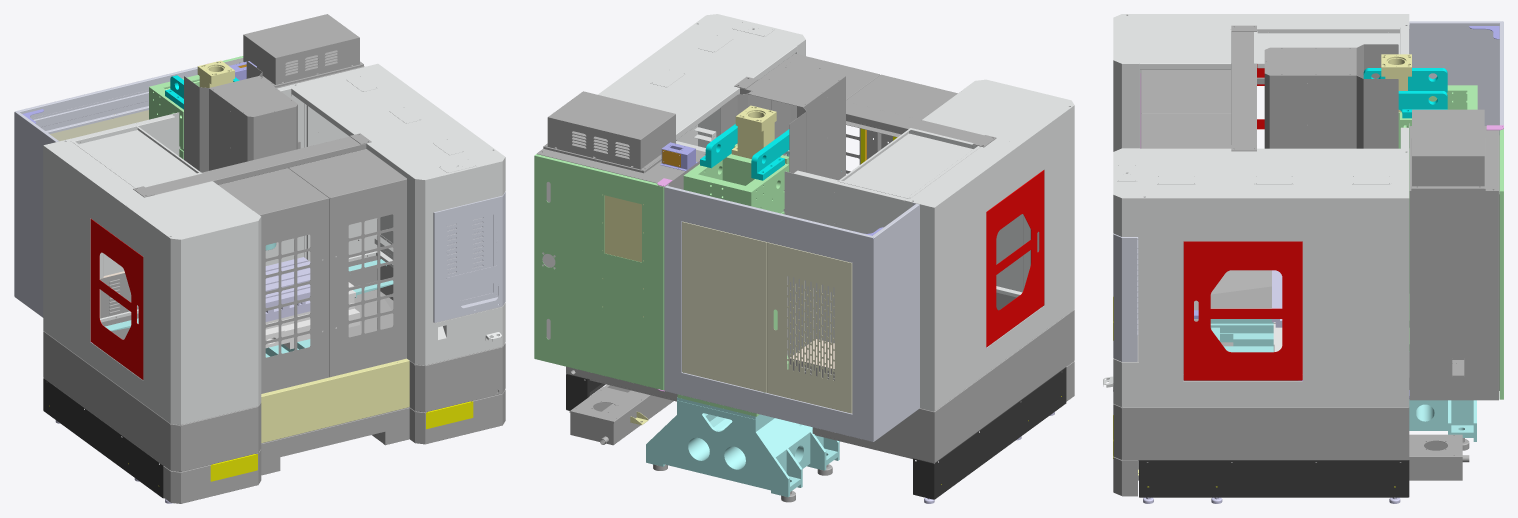
Rendered from 中型cnc装配体.glb.
3 views of the same model, side by side, from view 1: azimuth 30°, elevation 25°; view 2: azimuth 150°, elevation 25°; view 3: azimuth 270°, elevation 25° (orthographic). The views are drawn at different scales.
Visible parts, largest first — view 1: 850B左前上围板-2.0-1件-1, 右推门-2.0-1件-1, 左推门-2.0-1件-1, 850B右顶件-2.0-1件-1, 850B底盘左大件-2.5-1件-1, 850B右前上围板-2.0-1件-1, 850B左围板后置件-2.0-1件-1, 门框不锈钢装饰板-1.5-1件-1, 后围板右侧件-2.0-1件-1, 操作箱主体-1件-2.0-1, 850B底盘右大件-2.5-1件-1, 两侧门-2.0-2件-1 (+31 smaller); view 2: SH电箱门-1件-2.0-1, 后围板右侧件-2.0-1件-1, 后围板左手门-1件-1.5-1, 后围板右手门-1件-1.5-1, 光机底座-1, 850B右顶件-2.0-1件-1, 850B左围板后置件-2.0-1件-1, 850B左前上围板-2.0-1件-1, 850B左后围板大件-2.0-1件-1, 850B底盘左大件-2.5-1件-1, 两侧门-2.0-2件-1, 左下围板-1.5-1件-1 (+30 smaller); view 3: 850B右围板后置件-2.0-1件-1, 电箱左侧件-2.0-1件-1, 850B底盘右大件-2.5-1件-1, 850B右顶件-2.0-1件-1, 两侧门-2.0-2件-1, 850B右前上围板-2.0-1件-1, 右下围板-1.5-1件-1, 右侧机头罩-2.0-1件-1, 850B左顶前侧件-2.0-1件-1, 后围板右侧件-2.0-1件-1, 电阻罩-B-1.5-1件-1, 850B右围板上连接件-2.0-1件-1 (+22 smaller).
Part boxes in pixels (x1,y1,x2,y2): 850B左前上围板-2.0-1件-1: (143,211,261,425); 右推门-2.0-1件-1: (288,149,406,377); 左推门-2.0-1件-1: (218,168,329,393); 850B右顶件-2.0-1件-1: (288,64,504,179); 850B底盘左大件-2.5-1件-1: (43,331,261,471); 850B右前上围板-2.0-1件-1: (407,137,505,365); 850B左围板后置件-2.0-1件-1: (43,145,90,364); 门框不锈钢装饰板-1.5-1件-1: (261,358,409,442); 后围板右侧件-2.0-1件-1: (14,107,58,317); 操作箱主体-1件-2.0-1: (433,192,505,322); 850B底盘右大件-2.5-1件-1: (380,259,505,412); 两侧门-2.0-2件-1: (90,219,143,379); SH电箱门-1件-2.0-1: (534,154,665,390); 后围板右侧件-2.0-1件-1: (852,202,919,441); 后围板左手门-1件-1.5-1: (682,221,766,392); 后围板右手门-1件-1.5-1: (767,242,852,413); 光机底座-1: (646,397,839,497); 850B右顶件-2.0-1件-1: (598,14,805,140); 850B左围板后置件-2.0-1件-1: (934,170,986,411); 850B左前上围板-2.0-1件-1: (967,79,1074,330); 850B左后围板大件-2.0-1件-1: (787,180,934,411); 850B底盘左大件-2.5-1件-1: (934,292,1074,462); 两侧门-2.0-2件-1: (986,170,1044,347); 左下围板-1.5-1件-1: (913,367,1066,499); 850B右围板后置件-2.0-1件-1: (1303,198,1409,407); 电箱左侧件-2.0-1件-1: (1409,159,1499,400); 850B底盘右大件-2.5-1件-1: (1113,404,1408,461); 850B右顶件-2.0-1件-1: (1113,148,1408,197); 两侧门-2.0-2件-1: (1183,241,1302,380); 850B右前上围板-2.0-1件-1: (1113,148,1183,407); 右下围板-1.5-1件-1: (1139,460,1409,497); 右侧机头罩-2.0-1件-1: (1305,75,1398,148); 850B左顶前侧件-2.0-1件-1: (1113,14,1231,69); 后围板右侧件-2.0-1件-1: (1409,21,1503,125); 电阻罩-B-1.5-1件-1: (1412,109,1484,188); 850B右围板上连接件-2.0-1件-1: (1183,198,1302,244).
Bounding box in the file's own units: 2.55 × 2.29 × 2.34.
